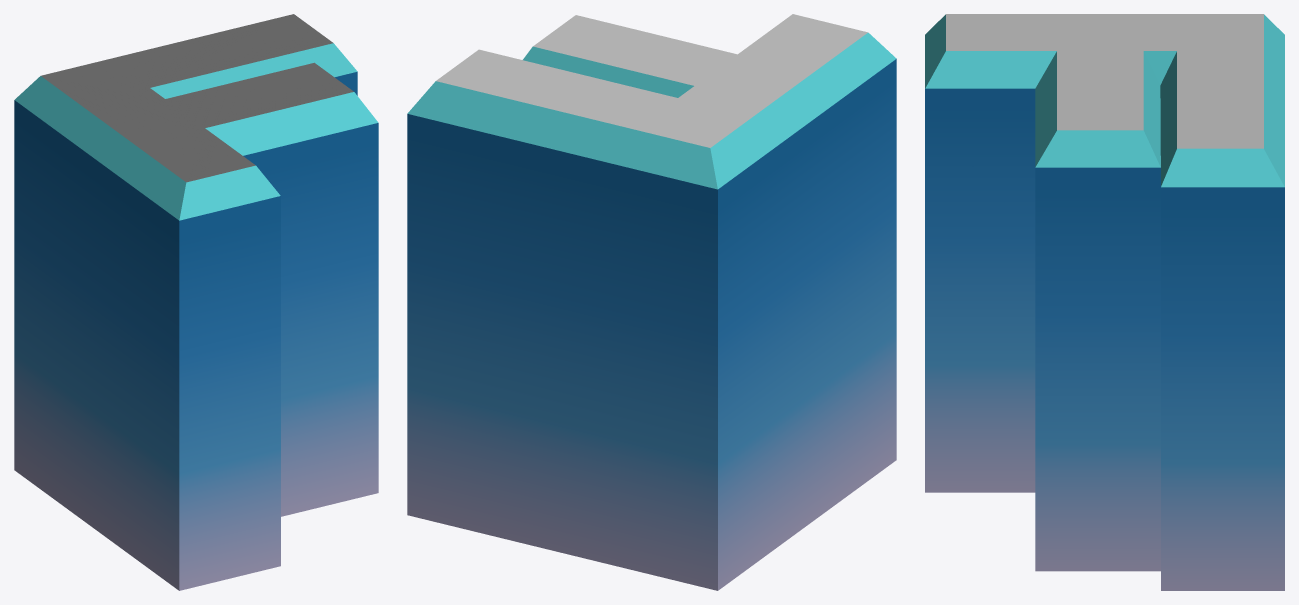
3 views of the same model, side by side, from view 1: azimuth 30°, elevation 25°; view 2: azimuth 150°, elevation 25°; view 3: azimuth 270°, elevation 25° (orthographic). The views are drawn at different scales.
Parts seen in each view (by area): view 1: Joint_0_Object_0, Joint_0_Object_1; view 2: Joint_0_Object_0, Joint_0_Object_1; view 3: Joint_0_Object_0, Joint_0_Object_1.
Boxes of the visible parts, box(x1,y1,x2,y2) form: Joint_0_Object_0: box(14, 43, 378, 590); Joint_0_Object_1: box(41, 14, 353, 182); Joint_0_Object_0: box(407, 32, 896, 590); Joint_0_Object_1: box(436, 14, 867, 147); Joint_0_Object_0: box(925, 14, 1284, 590); Joint_0_Object_1: box(946, 14, 1263, 148).
Size of the model in its own units: 106 by 140 by 106.
